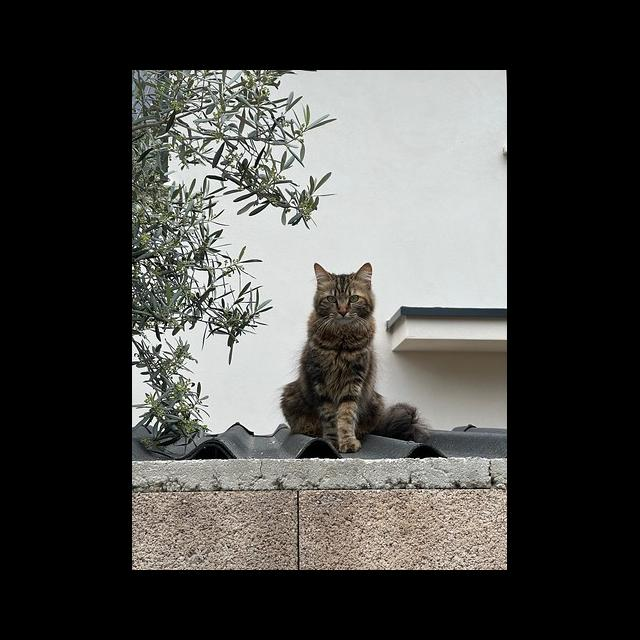animals: (282, 263, 417, 454)
